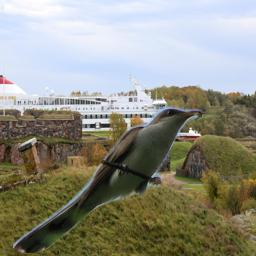Cuckoo: (13, 105, 202, 253)
